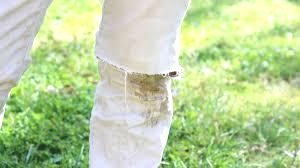earth: (135, 72, 167, 127)
